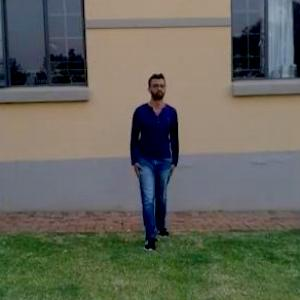follow: (122, 60, 189, 269)
